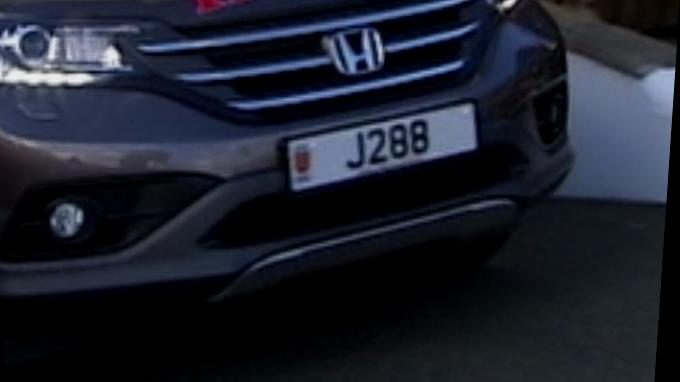License_Plate: (261, 93, 499, 205)
